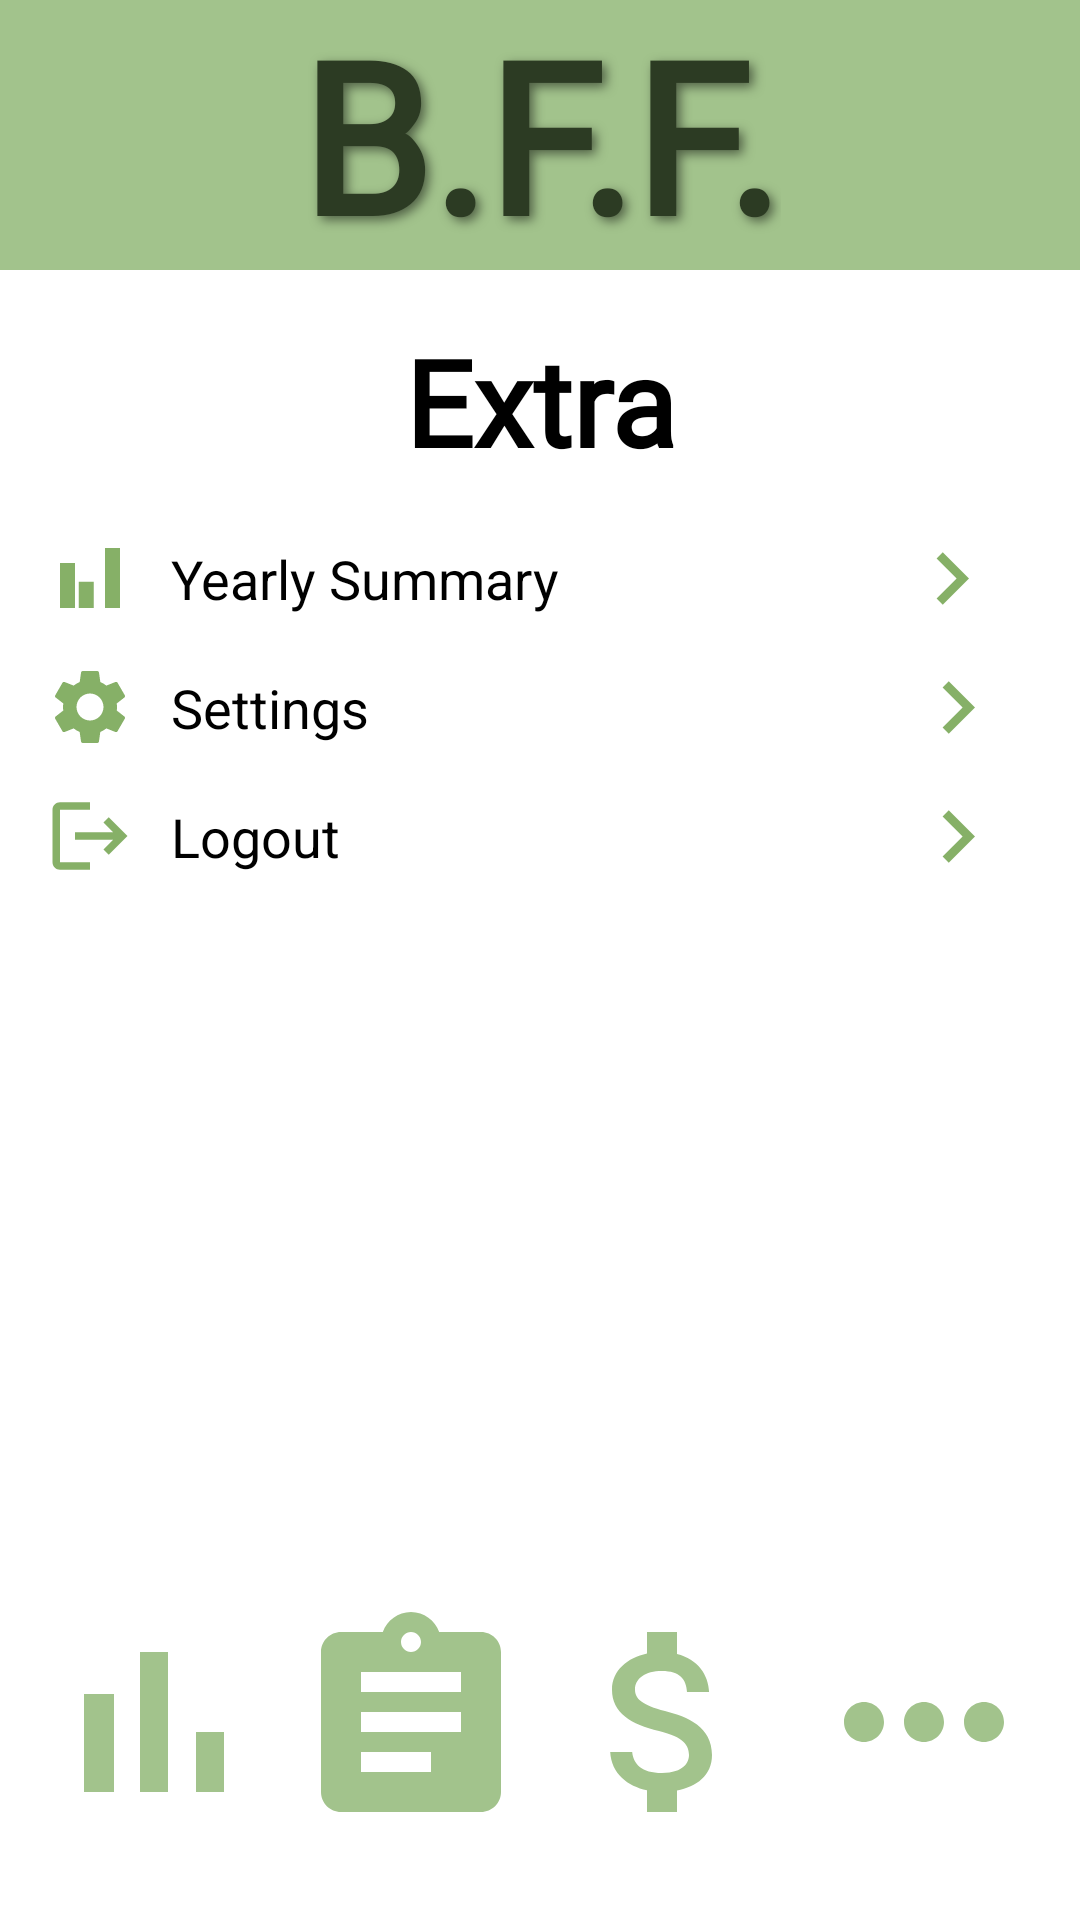

Where icons sit on this 1080px×1920px app screen, as region(x1, y1, x2, y2):
chevron: region(937, 552, 969, 605), region(943, 681, 975, 734), region(943, 810, 975, 863)
